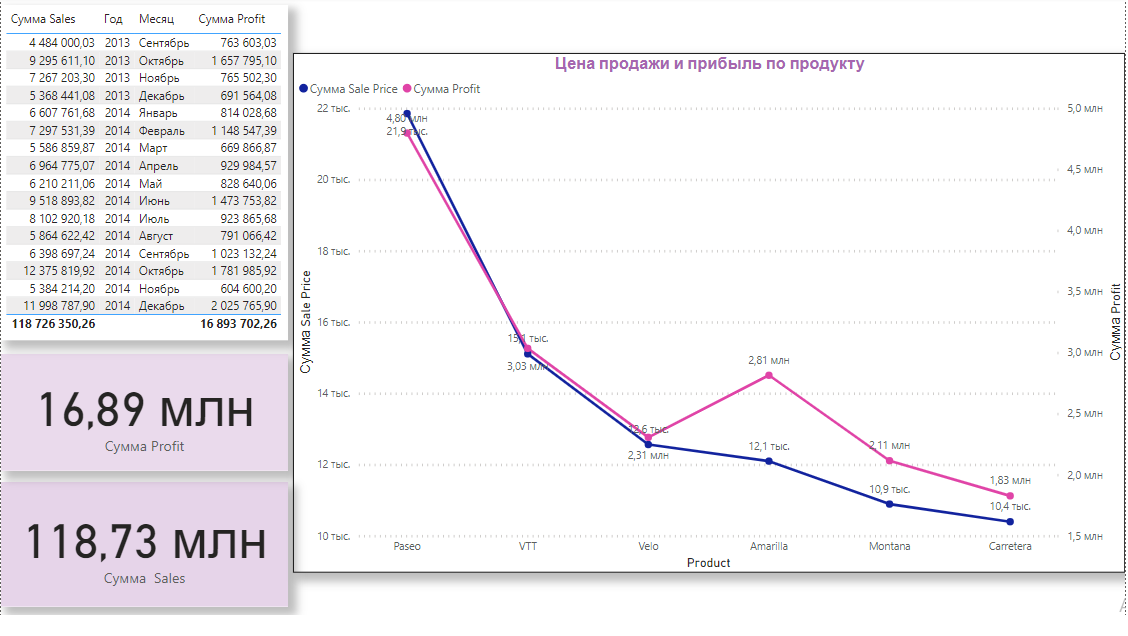

This screenshot's page, from the dashboard's own definition file:
{"tool":"powerbi","page":{"name":"продажи и прибыль","canvas":[1280,720],"ordinal":1},"visuals":[{"type":"tableEx","fields":{"Values":["Sum(Sheet1. Sales)","Sheet1.Date.Изменение.Иерархия дат.Год","Sheet1.Date.Изменение.Иерархия дат.Месяц","Sum(Sheet1.Profit)"]},"box":[0,9.1,327,381.6],"z":0},{"type":"card","fields":{"Values":["Sum(Sheet1.Profit)"]},"box":[0,406.7,327,133.3],"z":1000},{"type":"lineChart","title":"Цена продажи и прибыль по продукту","fields":{"Category":["Sheet1.Product"],"Y":["Sum(Sheet1.Sale Price)"],"Y2":["Sum(Sheet1.Profit)"]},"box":[332.7,63.8,947.8,592.4],"z":2000},{"type":"card","fields":{"Values":["Sum(Sheet1. Sales)"]},"box":[0,552.5,327,142.4],"z":2001}]}

Visuals, with their boxes in screenshot pixels (x1, y1, x2, y2), scaled from the page's 1280x720 canvas onto the 1128x636 screenshot:
tableEx - Sum(Sheet1. Sales) x Sheet1.Date.Изменение.Иерархия дат.Год: detection(0, 8, 288, 345)
card - Sum(Sheet1.Profit): detection(0, 359, 288, 477)
"Цена продажи и прибыль по продукту" lineChart: detection(293, 56, 1127, 580)
card - Sum(Sheet1. Sales): detection(0, 488, 288, 614)
